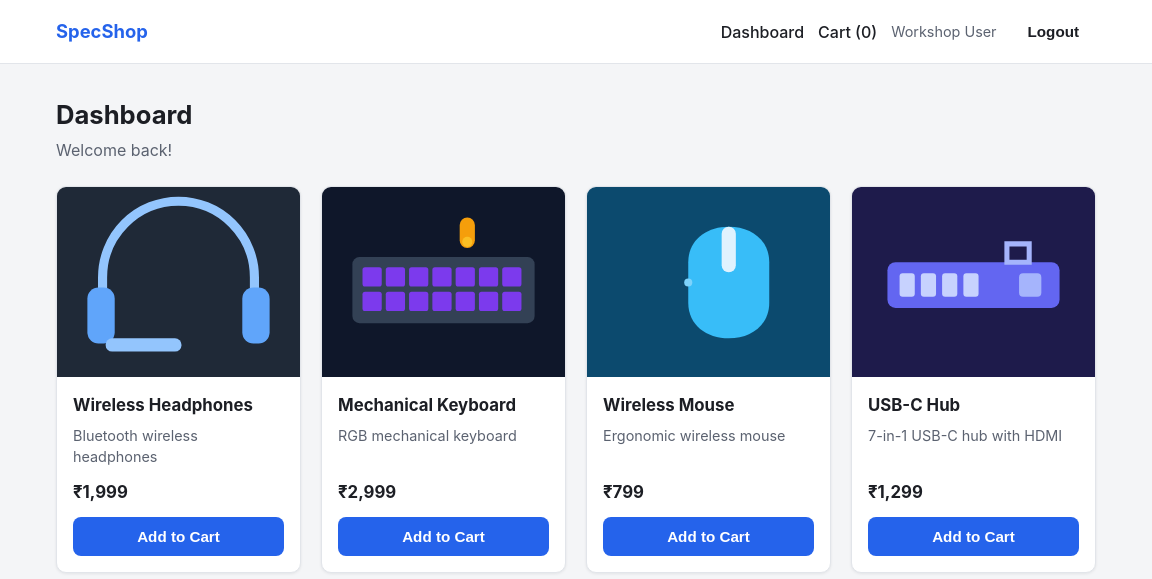
dashboard spec › adds an item, updates the cart indicator and shows feedback
This screenshot has width=1152, height=579.
Click the button "Add to Cart" below "₹1,999". click: x=178, y=536
box: [73,517,284,556]
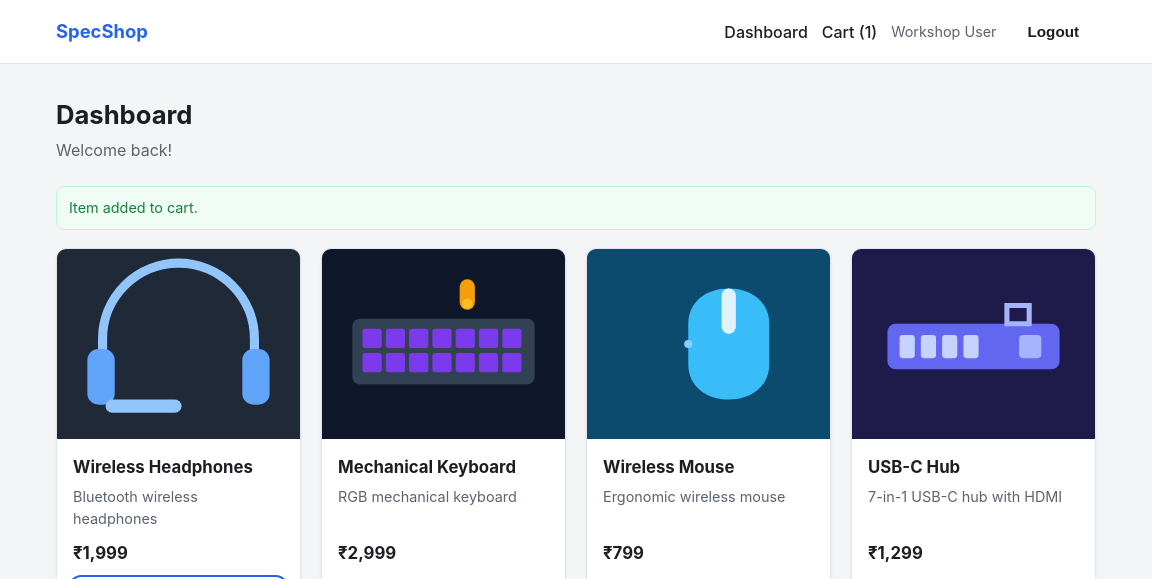
Check: the text "Item added to cart." is shown, box [56,186,1096,230]
Check: the link "Cart (1)" is shown, box [822,20,877,44]
